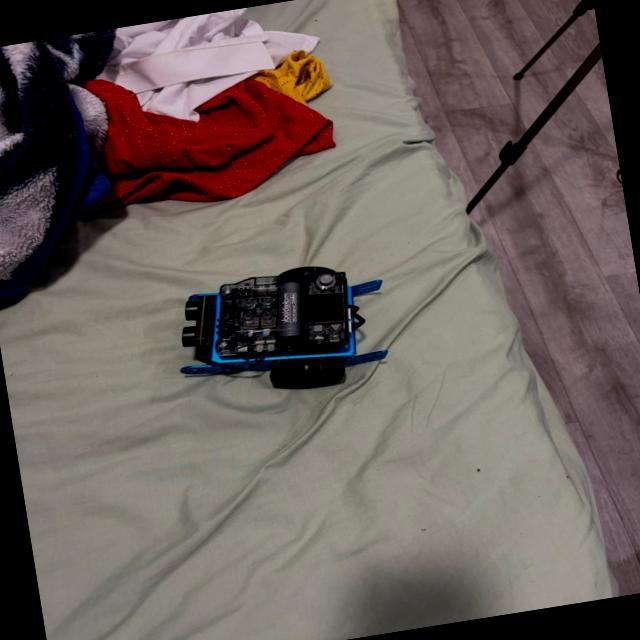mbot-detection: (162, 251, 402, 412)
